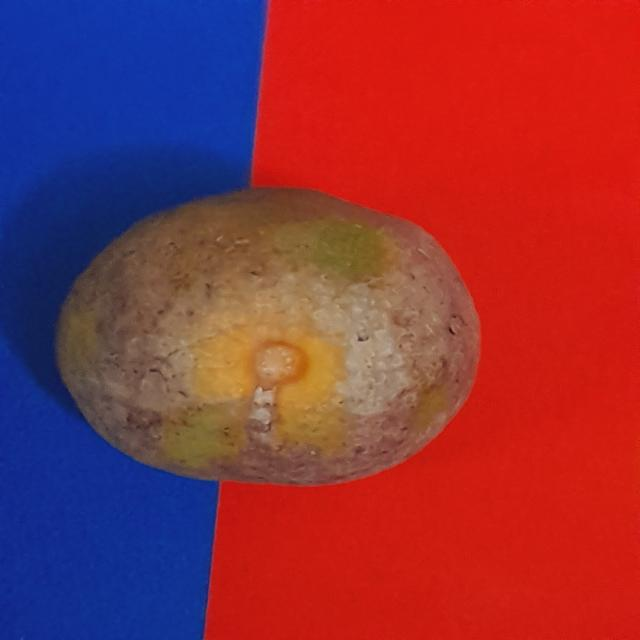thrips: (64, 186, 491, 499)
